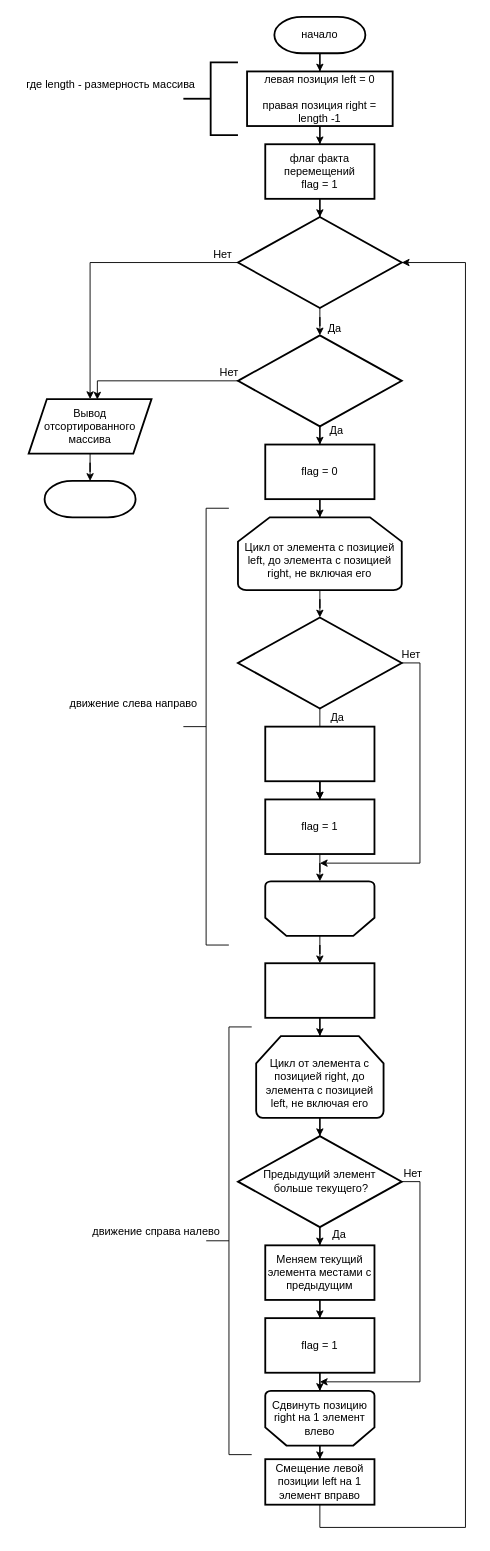
This 490x1551 diagram has some shape labels left out. Each missing label, with the box of its shape:
flag > 0: (237, 334, 402, 427)
left < right: (237, 216, 402, 308)
конец: (43, 480, 136, 518)
Меняем текущий элемента местами со следующим: (264, 725, 375, 782)
Сдвинуть позицию left на 1 элемент вправо: (264, 880, 375, 936)
Следующий элемент больше текущего?: (237, 616, 402, 709)
Смещение правой позиции right на 1 элемент влево: (264, 962, 375, 1018)
